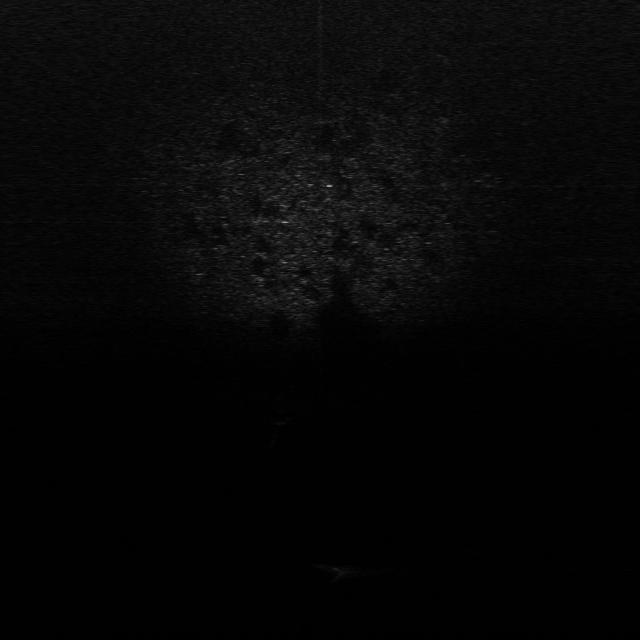metal bucket: (317, 561, 374, 579)
